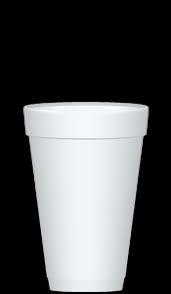Plastic cup: (14, 89, 162, 294)
